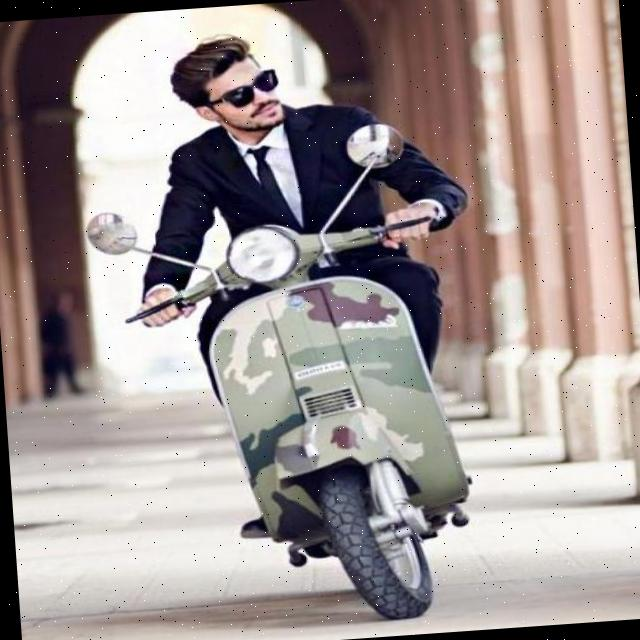No helmet: (171, 37, 296, 135)
